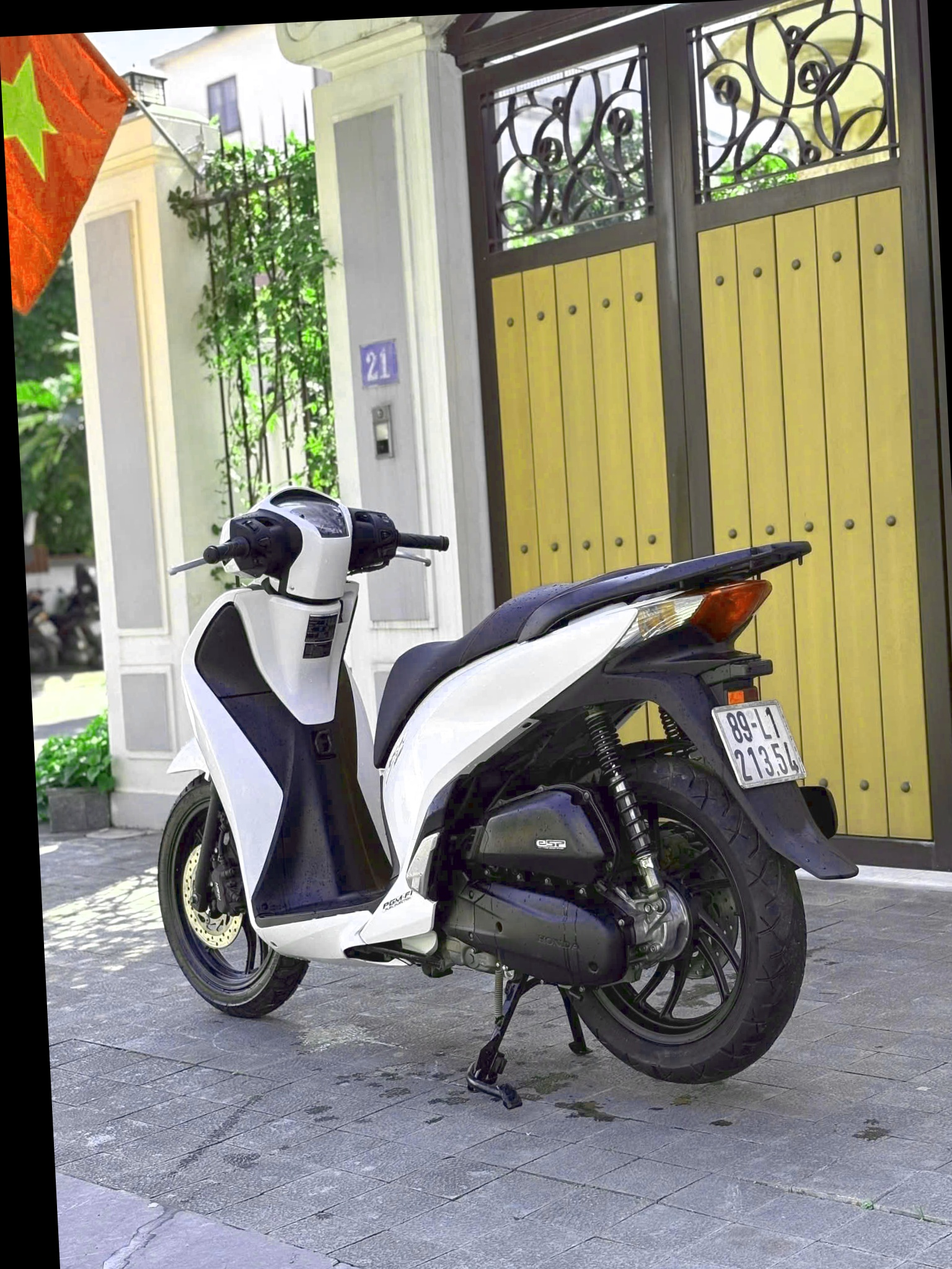Bien-so: (706, 688, 824, 800)
